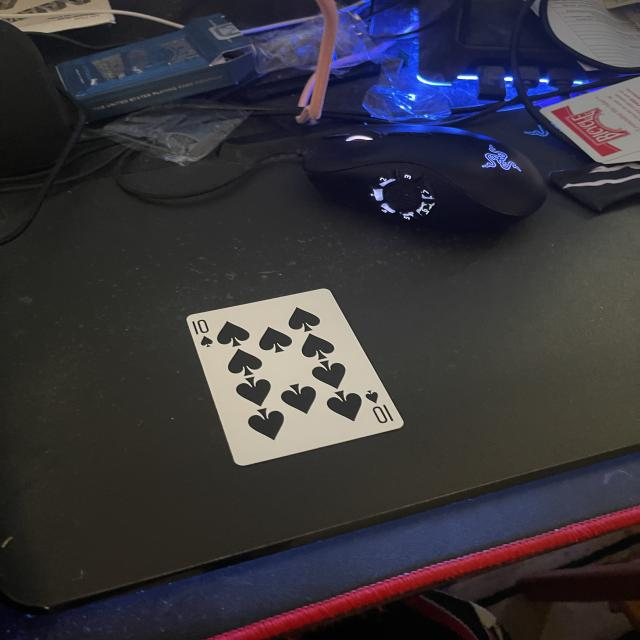10 of spades: (186, 285, 413, 467)
